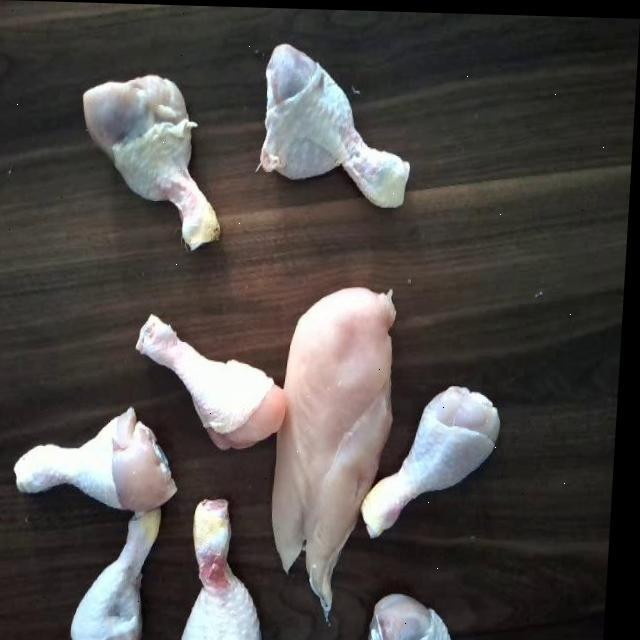breast: (284, 280, 403, 598)
leg: (64, 71, 246, 270), (256, 39, 418, 220), (372, 372, 508, 548), (136, 312, 298, 457), (14, 406, 188, 512), (78, 503, 174, 640), (189, 492, 272, 640), (367, 583, 463, 640)
